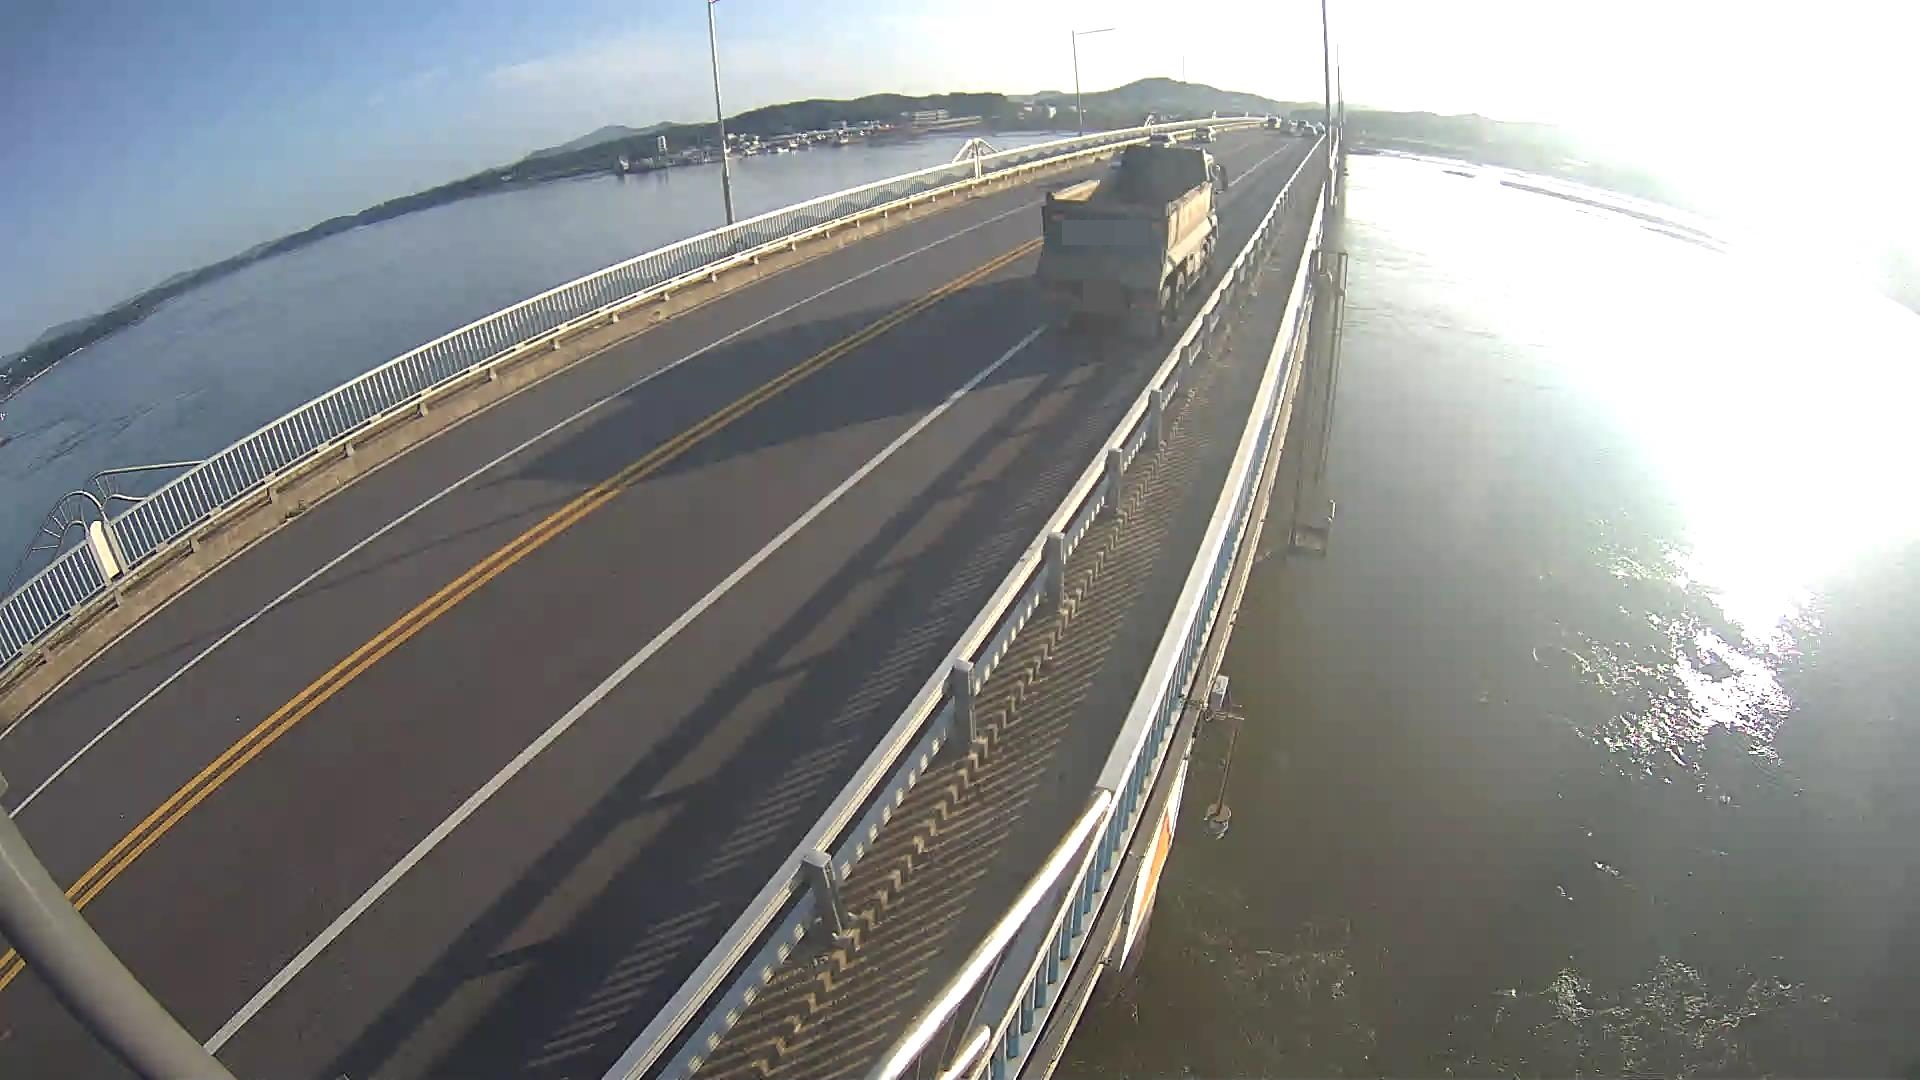정상차량: (1031, 144, 1228, 340)
